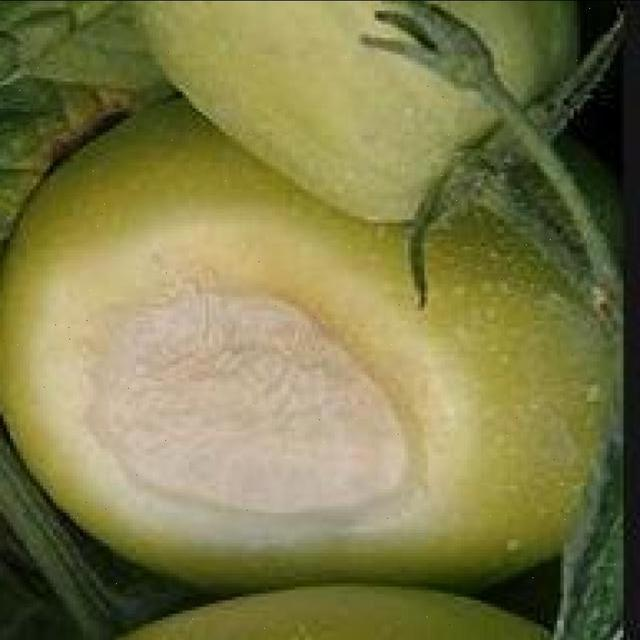Sunscald Fruit: (28, 172, 291, 349)
